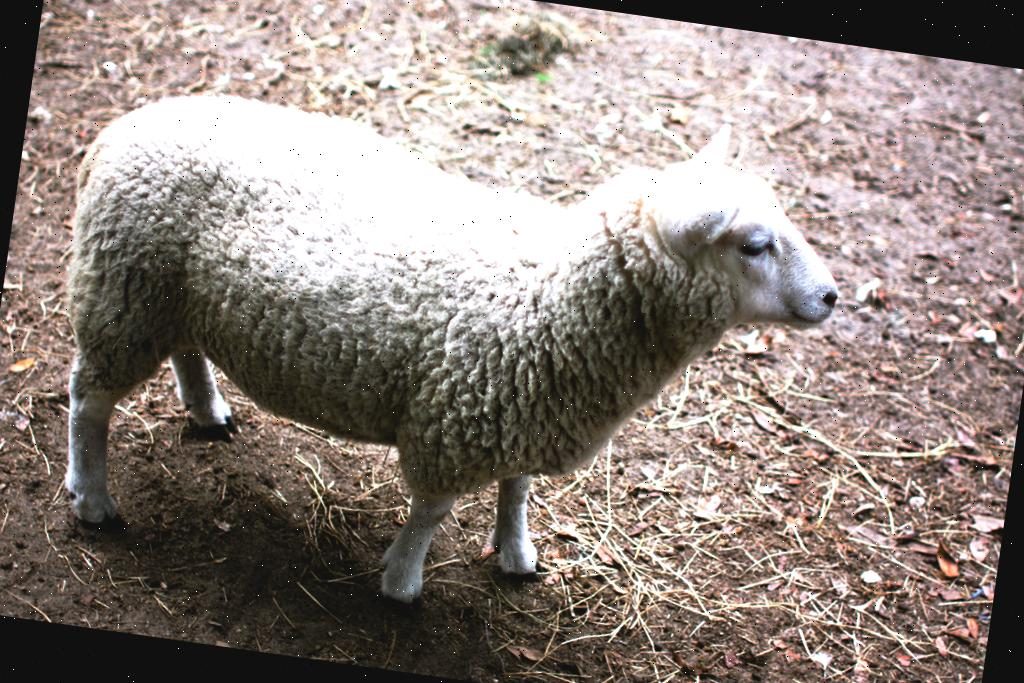Sheep: (20, 31, 860, 672)
